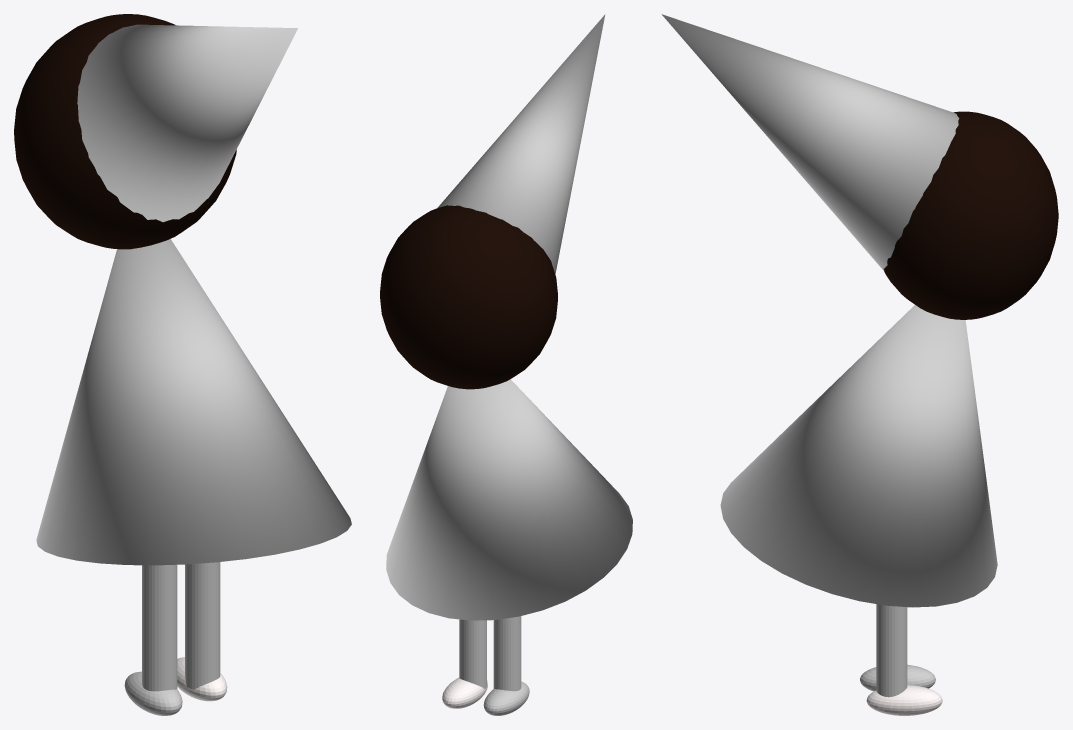
The model's file is princess-textured.obj.
3 renders of one model, left to right at view 1: azimuth 30°, elevation 25°; view 2: azimuth 150°, elevation 25°; view 3: azimuth 270°, elevation 25°, orthographic. The views are drawn at different scales.
Parts seen in each view (by area): view 1: Cone_Cone.001, Cone.001_Cone.002, Sphere, Cylinder.001, Cylinder, Sphere.002, Sphere.001; view 2: Cone_Cone.001, Sphere, Cone.001_Cone.002, Cylinder.001, Cylinder, Sphere.002, Sphere.001; view 3: Cone_Cone.001, Cone.001_Cone.002, Sphere, Cylinder, Sphere.001, Sphere.002.
Part boxes in pixels (x1=…): Cone_Cone.001: x1=36, y1=239, x2=351, y2=565; Cone.001_Cone.002: x1=77, y1=24, x2=297, y2=222; Sphere: x1=14, y1=14, x2=236, y2=249; Cylinder.001: x1=142, y1=564, x2=177, y2=691; Cylinder: x1=185, y1=562, x2=220, y2=689; Sphere.002: x1=124, y1=671, x2=182, y2=715; Sphere.001: x1=177, y1=657, x2=227, y2=701; Cone_Cone.001: x1=386, y1=379, x2=632, y2=620; Sphere: x1=380, y1=205, x2=557, y2=389; Cone.001_Cone.002: x1=437, y1=14, x2=605, y2=273; Cylinder.001: x1=493, y1=616, x2=521, y2=691; Cylinder: x1=459, y1=619, x2=486, y2=688; Sphere.002: x1=483, y1=681, x2=529, y2=715; Sphere.001: x1=442, y1=677, x2=487, y2=708; Cone_Cone.001: x1=720, y1=305, x2=997, y2=607; Cone.001_Cone.002: x1=661, y1=14, x2=959, y2=271; Sphere: x1=883, y1=111, x2=1058, y2=319; Cylinder: x1=876, y1=604, x2=907, y2=697; Sphere.001: x1=866, y1=685, x2=942, y2=715; Sphere.002: x1=860, y1=664, x2=935, y2=691.
Bounding box in the file's own units: 0.1446 × 0.3952 × 0.2085.
Materials: 3 (2 with a texture image).
